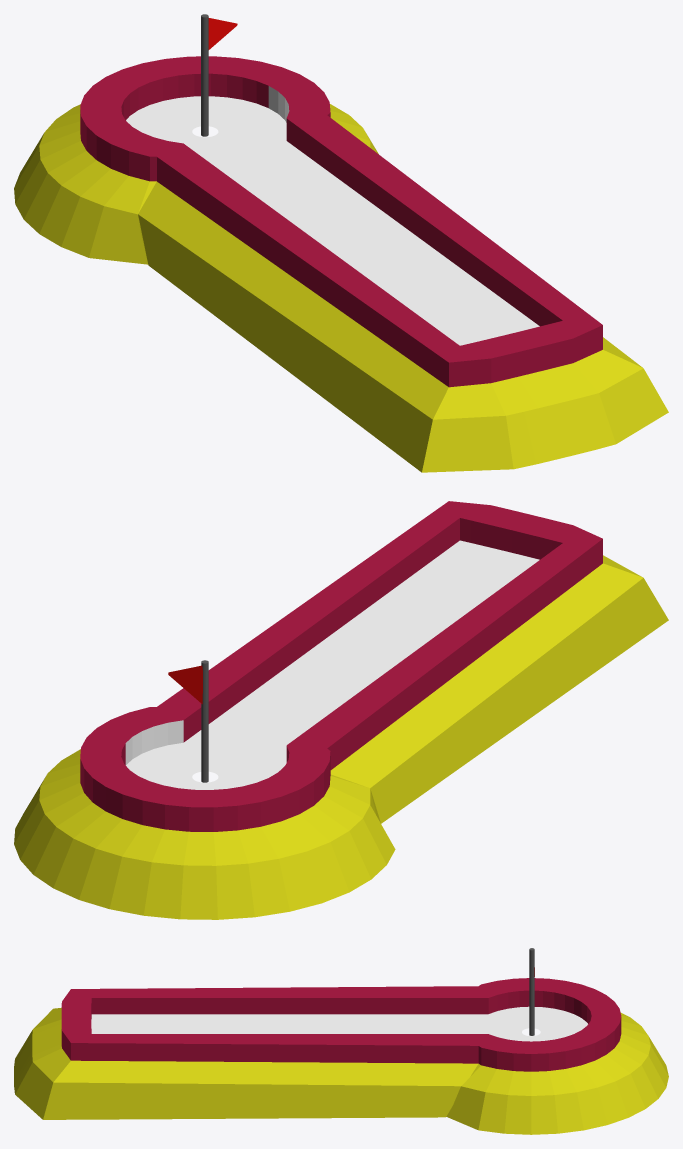
The model's file is playground.glb.
The picture shows the model from 3 angles, top to bottom: view 1: azimuth 30°, elevation 25°; view 2: azimuth 150°, elevation 25°; view 3: azimuth 270°, elevation 25°; orthographic projection. The views are drawn at different scales.
Visible parts, largest first — view 1: Circle, Cylinder; view 2: Circle, Cylinder, Plane; view 3: Circle, Cylinder.
Part boxes in pixels (left/top/right/bottom): Circle: left=14, top=56, right=668, bottom=472; Cylinder: left=201, top=14, right=208, bottom=136; Circle: left=14, top=501, right=668, bottom=919; Cylinder: left=201, top=660, right=208, bottom=782; Plane: left=168, top=665, right=202, bottom=704; Circle: left=14, top=978, right=668, bottom=1134; Cylinder: left=529, top=948, right=534, bottom=1035.
Size of the model in its own units: 4.56 by 2.33 by 10.85.
